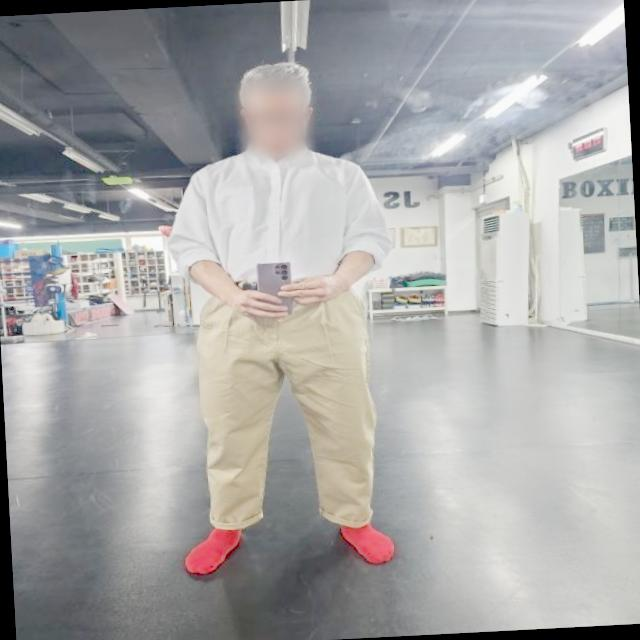cottonpants: (189, 266, 380, 540)
shirt: (164, 140, 394, 296)
